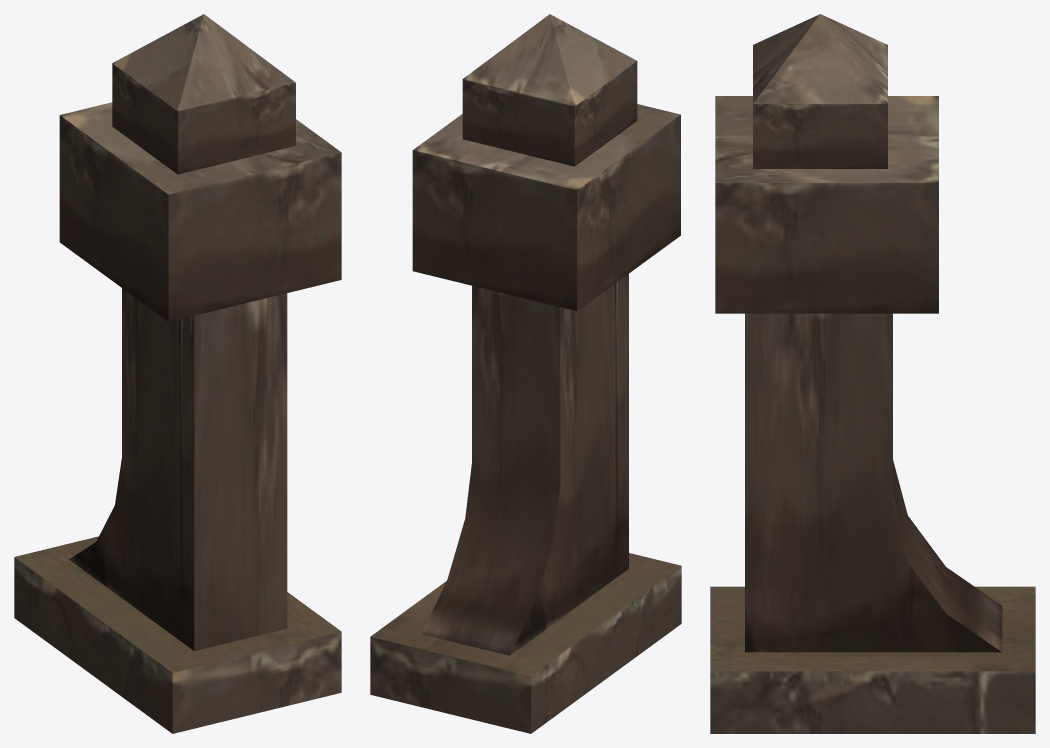
The model's file is new_p_fence_5.FBX.
3 views of the same model, side by side, from view 1: azimuth 30°, elevation 25°; view 2: azimuth 150°, elevation 25°; view 3: azimuth 270°, elevation 25° (orthographic). The views are drawn at different scales.
Visible parts, largest first — view 1: new_p_fence_5; view 2: new_p_fence_5; view 3: new_p_fence_5.
Part boxes in pixels (box(x1,y1,x2,y2)): new_p_fence_5: box(14, 14, 341, 733); new_p_fence_5: box(370, 14, 681, 733); new_p_fence_5: box(710, 14, 1035, 733).
Bounding box in the file's own units: 0.3071 × 1.12 × 0.4868.
